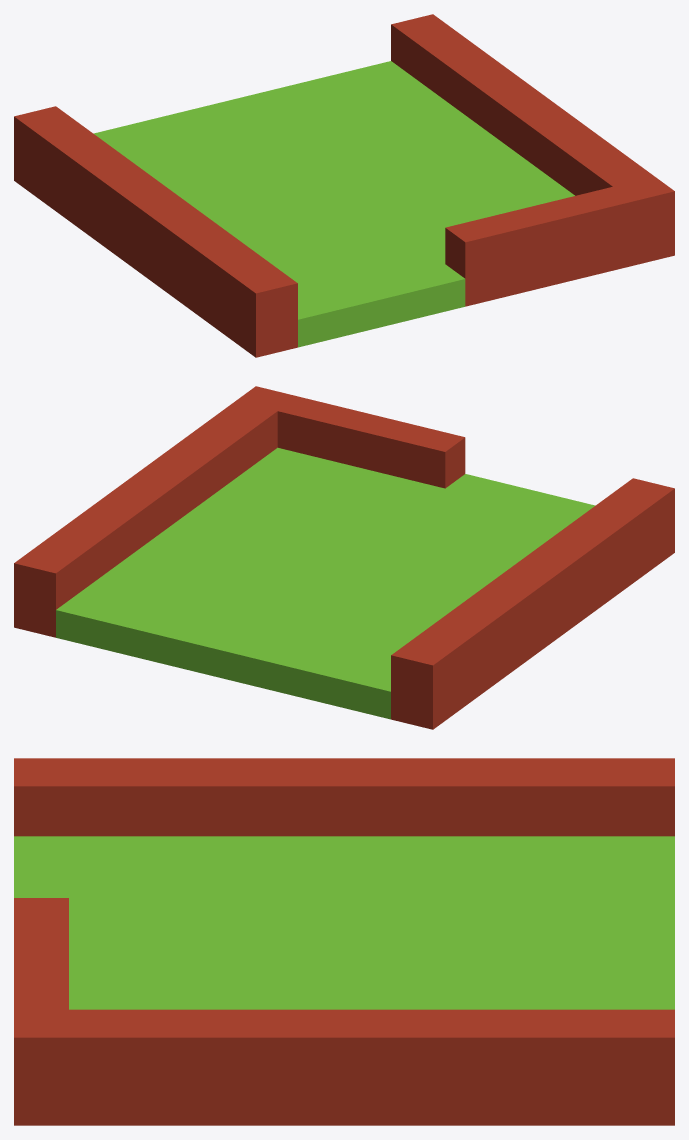
File: Wall_right_01.obj
The picture shows the model from 3 angles, top to bottom: view 1: azimuth 30°, elevation 25°; view 2: azimuth 150°, elevation 25°; view 3: azimuth 270°, elevation 25°; orthographic projection. The views are drawn at different scales.
Visible parts, largest first — view 1: Mesh1_Wall_right_Model; view 2: Mesh1_Wall_right_Model; view 3: Mesh1_Wall_right_Model.
Part boxes in pixels (box(x1,y1,x2,y2)): Mesh1_Wall_right_Model: box(14, 14, 674, 357); Mesh1_Wall_right_Model: box(14, 386, 674, 729); Mesh1_Wall_right_Model: box(14, 758, 674, 1125).
Bounding box in the file's own units: 3 × 0.44 × 3.
